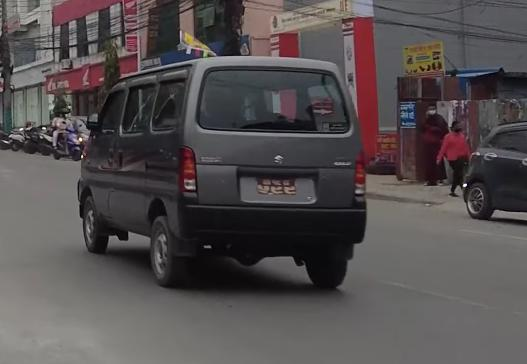car: (462, 115, 527, 224)
van: (75, 54, 372, 292)
